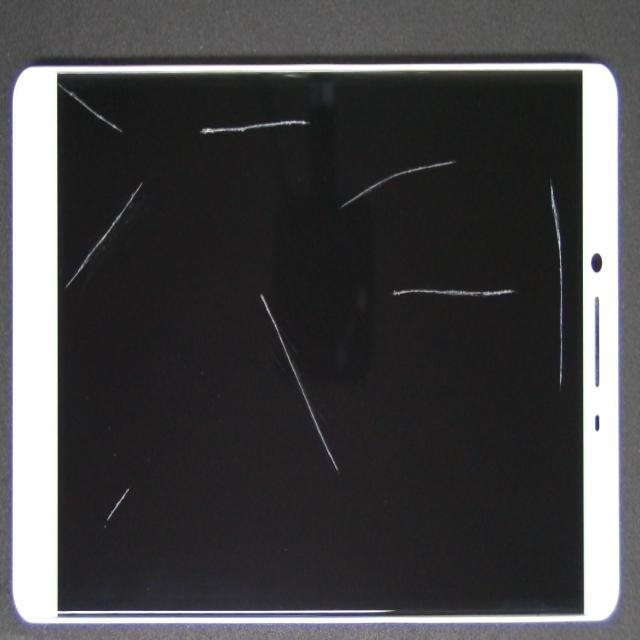scratch: (72, 39, 410, 538), (266, 0, 640, 377), (344, 144, 640, 409), (305, 43, 639, 225), (76, 192, 164, 640)
